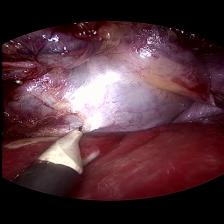Hook: (24, 118, 98, 176)
